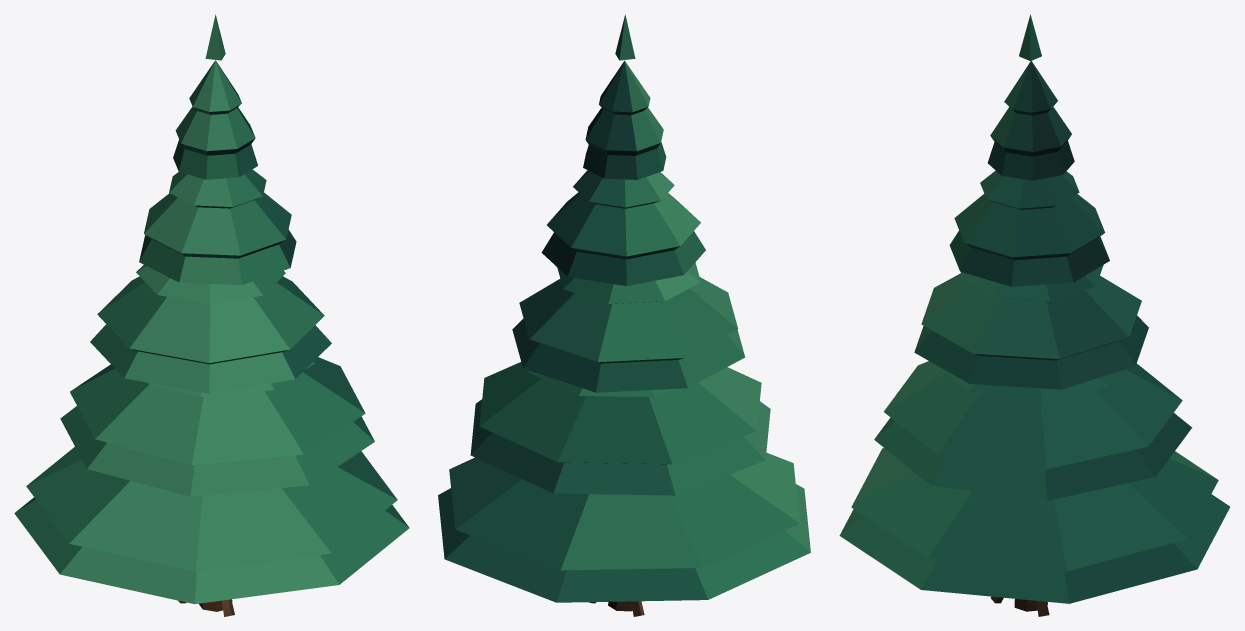
File: tree_pine.glb
3 renders of one model, left to right at view 1: azimuth 30°, elevation 25°; view 2: azimuth 150°, elevation 25°; view 3: azimuth 270°, elevation 25°, orthographic.
Parts seen in each view (by area): view 1: tree_pine; view 2: tree_pine; view 3: tree_pine.
Part boxes in pixels (x1,y1,x2,y2): tree_pine: (14, 14, 409, 616); tree_pine: (438, 14, 810, 616); tree_pine: (839, 14, 1229, 616).
Bounding box in the file's own units: 1.67 × 2.79 × 1.67.
